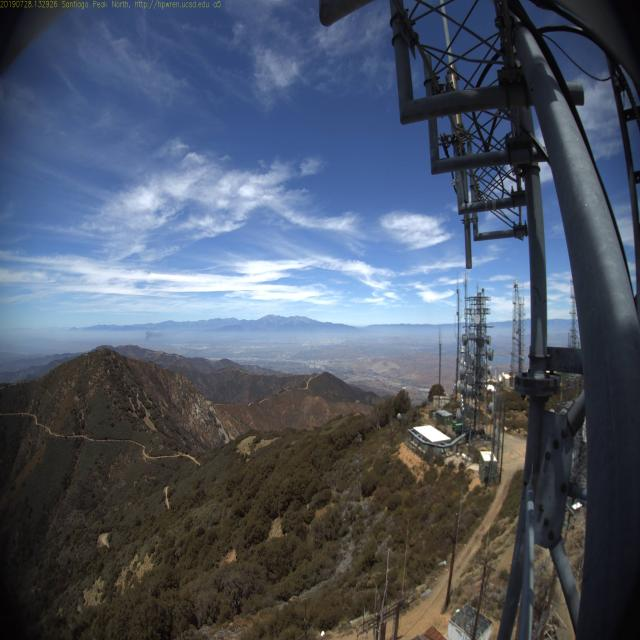smoke: (140, 325, 164, 348)
